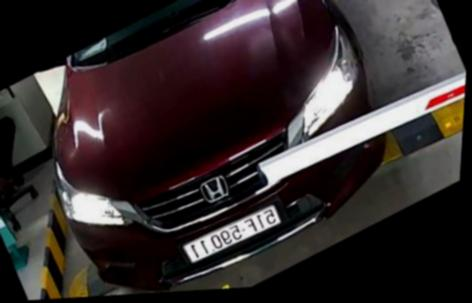License_Plate: (181, 200, 284, 265)
